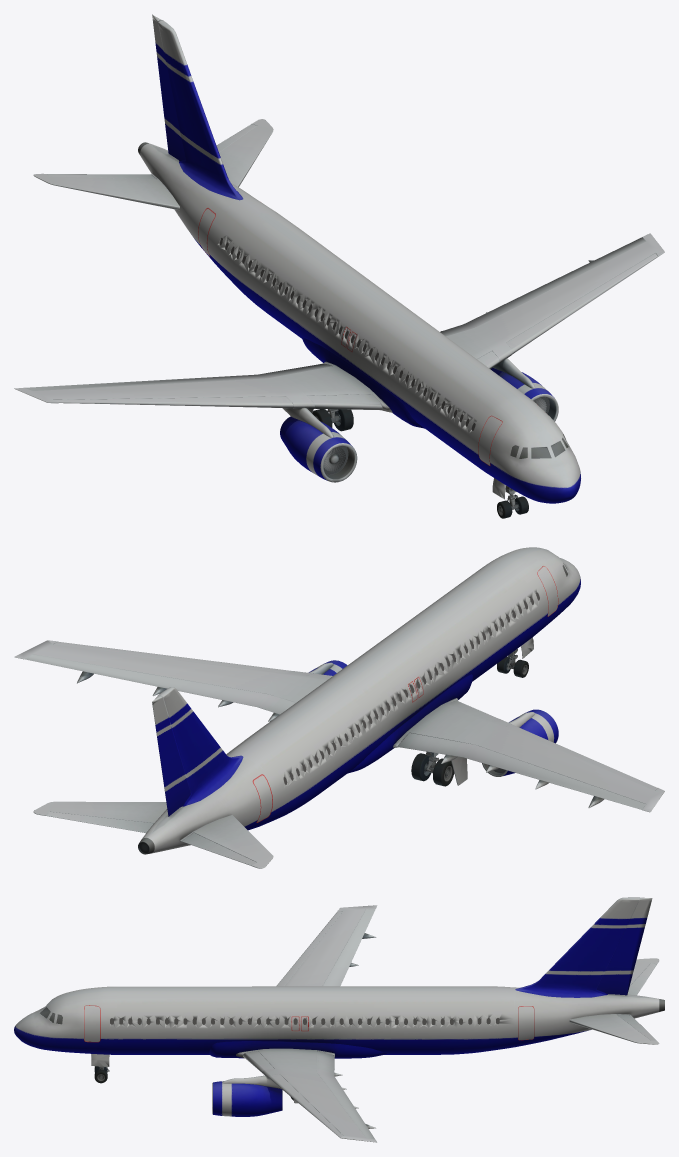
The model's file is Airplane.glb.
3 views of the same model, one above another, from view 1: azimuth 30°, elevation 25°; view 2: azimuth 150°, elevation 25°; view 3: azimuth 270°, elevation 25° (orthographic). The views are drawn at different scales.
Parts seen in each view (by area): view 1: airplane.1; view 2: airplane.1; view 3: airplane.1.
Boxes of the visible parts, x1=… form: airplane.1: x1=14, y1=14, x2=664, y2=518; airplane.1: x1=14, y1=547, x2=664, y2=868; airplane.1: x1=14, y1=897, x2=664, y2=1142.
Bounding box in the file's own units: 1.82 × 0.6472 × 2.11.
Materials: 1 (1 with a texture image).
